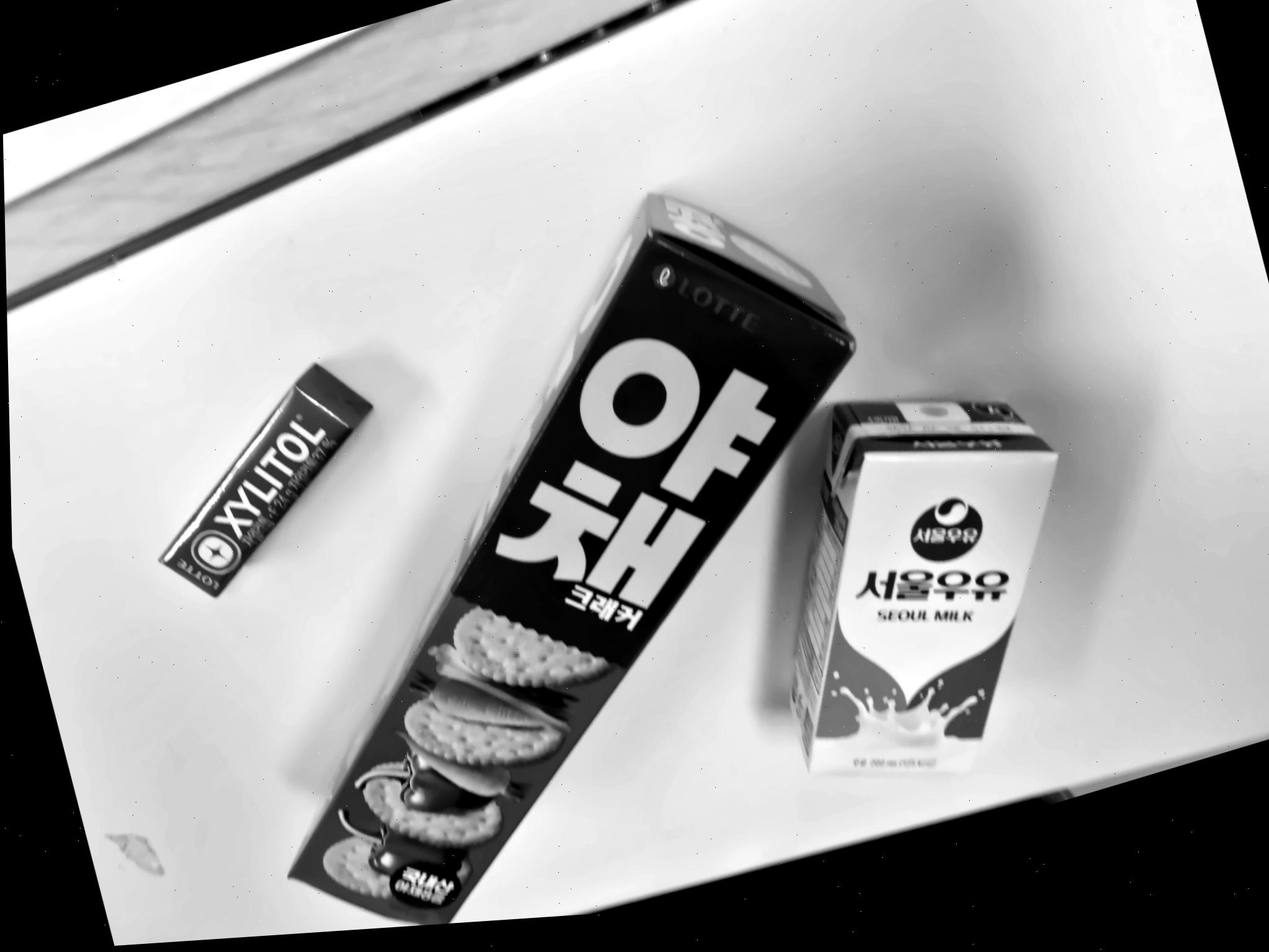cracker_vege: (286, 193, 856, 926)
gum_green: (159, 364, 371, 596)
milk_green: (791, 398, 1057, 775)
